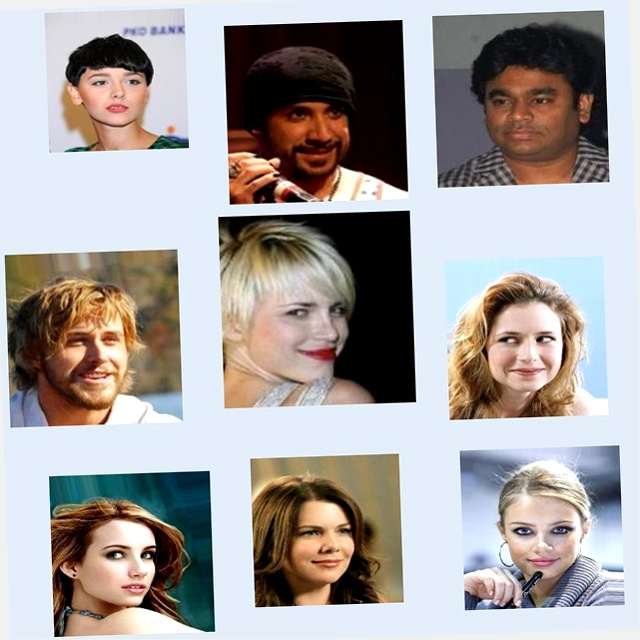celeb_10002: (446, 460, 611, 625)
celeb_2970: (34, 458, 200, 624)
celeb_3: (238, 21, 423, 205)
celeb_4428: (443, 270, 607, 434)
celeb_5695: (237, 454, 390, 608)
celeb_7: (447, 25, 624, 202)
celeb_7007: (61, 0, 206, 140)
celeb_797: (219, 211, 417, 409)
celeb_8335: (4, 235, 183, 413)
